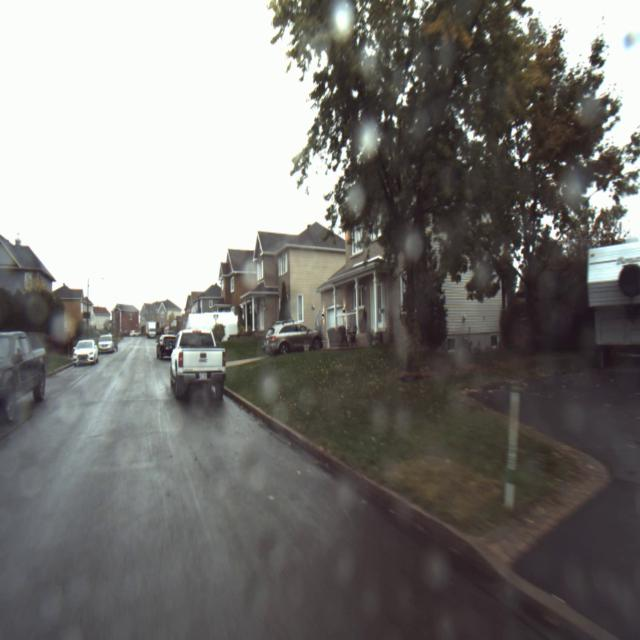car: (163, 313, 229, 407)
